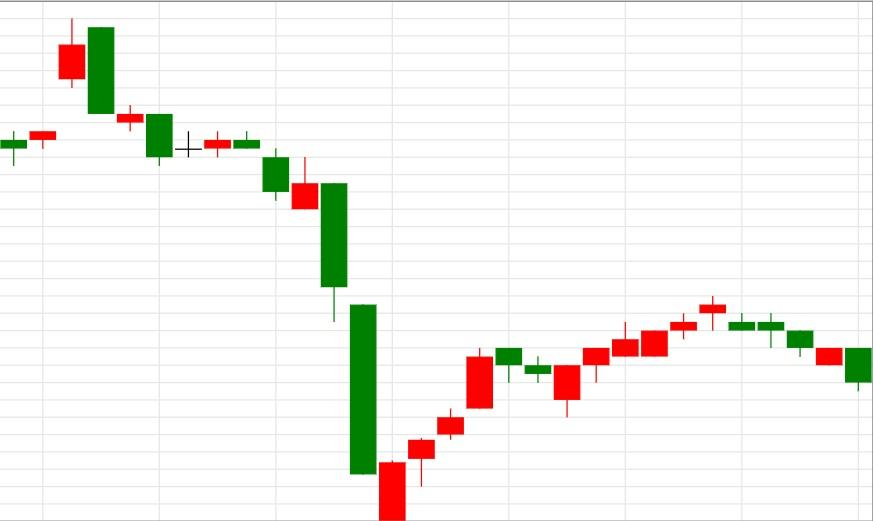three_white_soldiers_rise: (233, 131, 466, 521)
